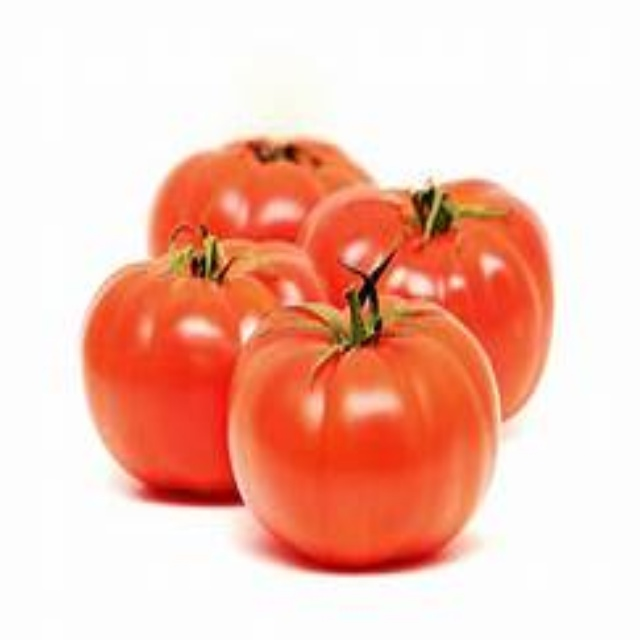tomato: (236, 296, 496, 565), (302, 174, 576, 418), (77, 235, 318, 500), (154, 128, 370, 284)
